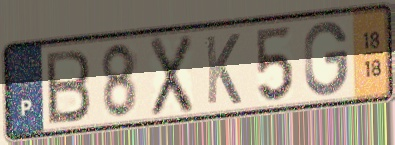5: (253, 24, 296, 104)
8: (99, 40, 141, 121)
B: (43, 46, 93, 127)
G: (302, 19, 351, 100)
K: (202, 32, 243, 108)
X: (148, 32, 195, 121)
